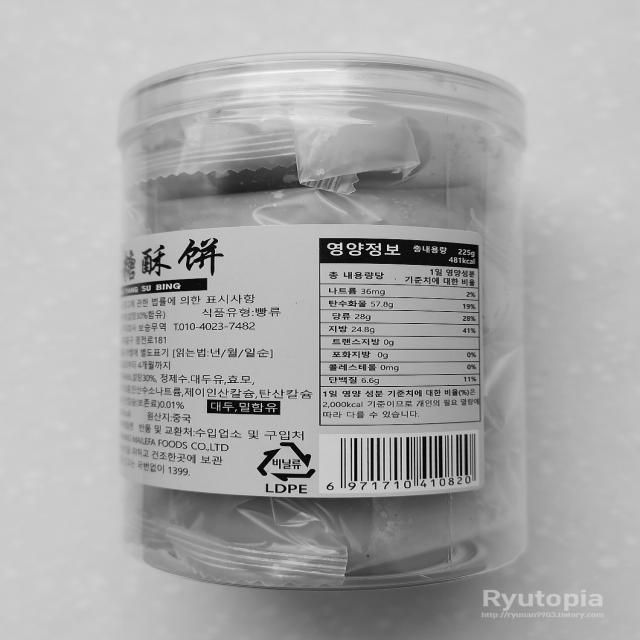Nutrition Label: (310, 233, 490, 430)
